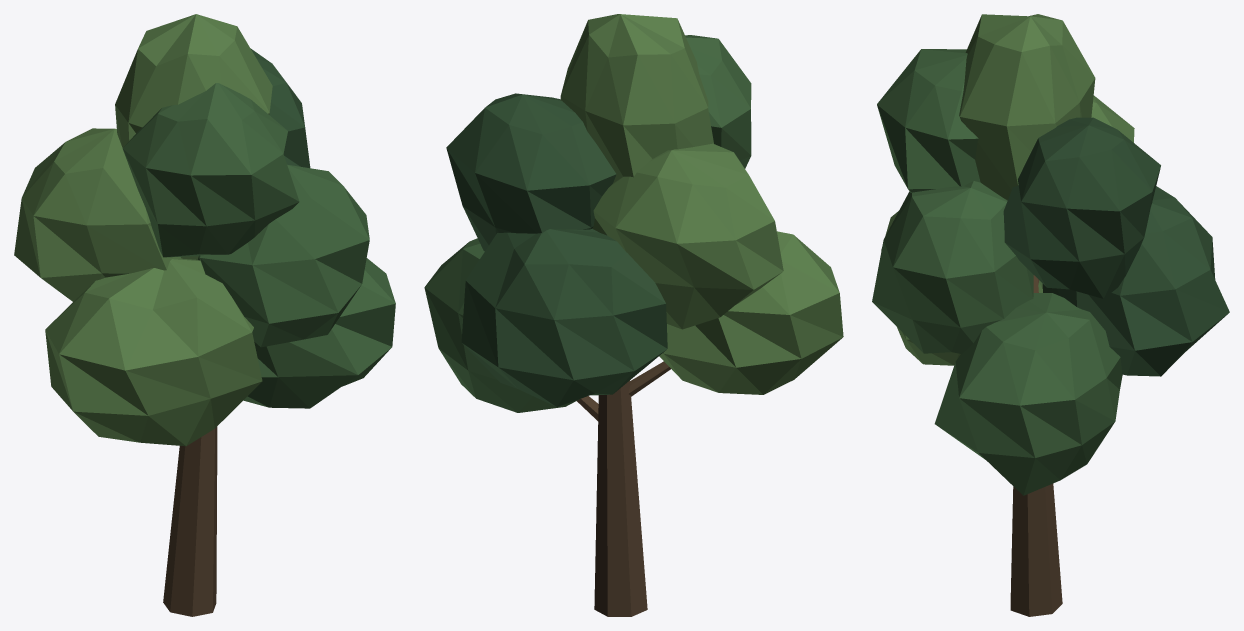
File: CoastalPine.obj
3 views of the same model, side by side, from view 1: azimuth 30°, elevation 25°; view 2: azimuth 150°, elevation 25°; view 3: azimuth 270°, elevation 25° (orthographic).
Visible parts, largest first — view 1: CoastalPine; view 2: CoastalPine; view 3: CoastalPine.
Boxes of the visible parts, left/top/right/bottom form: CoastalPine: left=14, top=14, right=395, bottom=616; CoastalPine: left=424, top=14, right=843, bottom=616; CoastalPine: left=872, top=14, right=1229, bottom=616.
Size of the model in its own units: 15.28 by 23.85 by 13.09.
